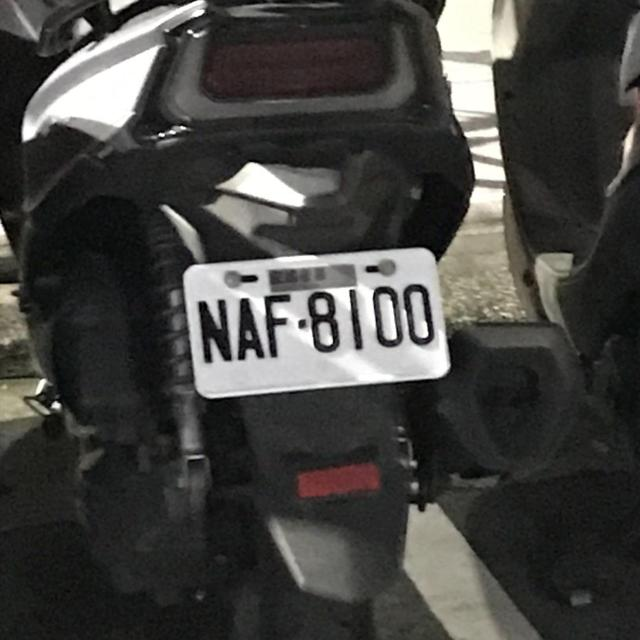W: (175, 237, 456, 406)
